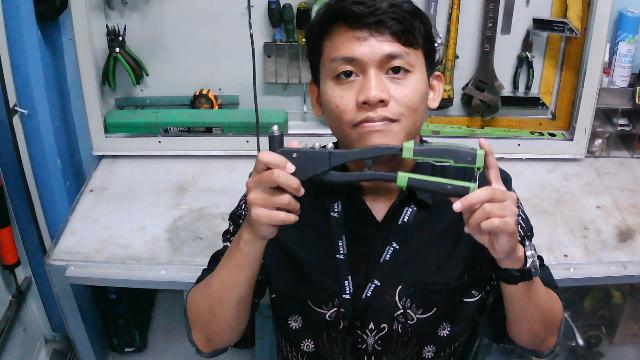tang_rivet: (267, 123, 487, 200)
